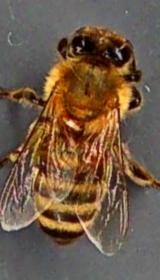varroa_mite: (54, 110, 90, 144), (85, 142, 108, 170)
